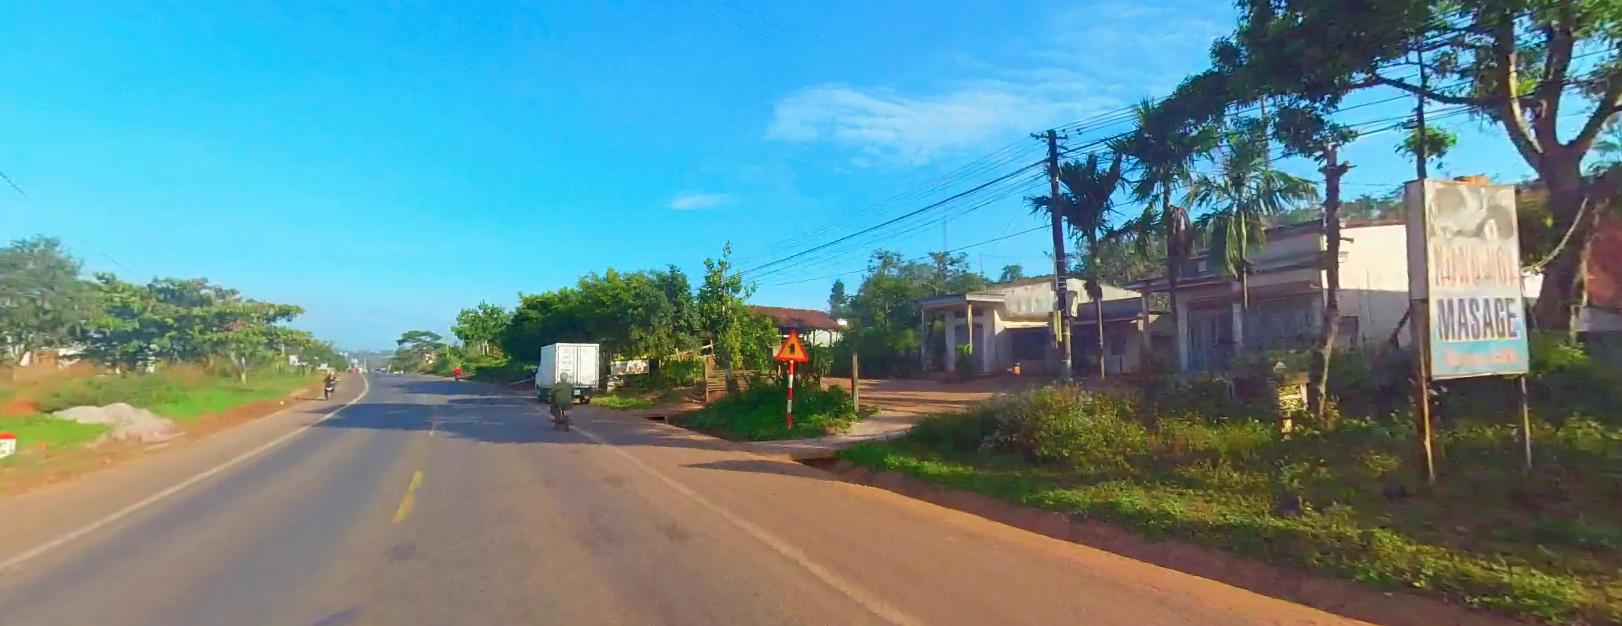Nguy hiem: (773, 327, 809, 361)
